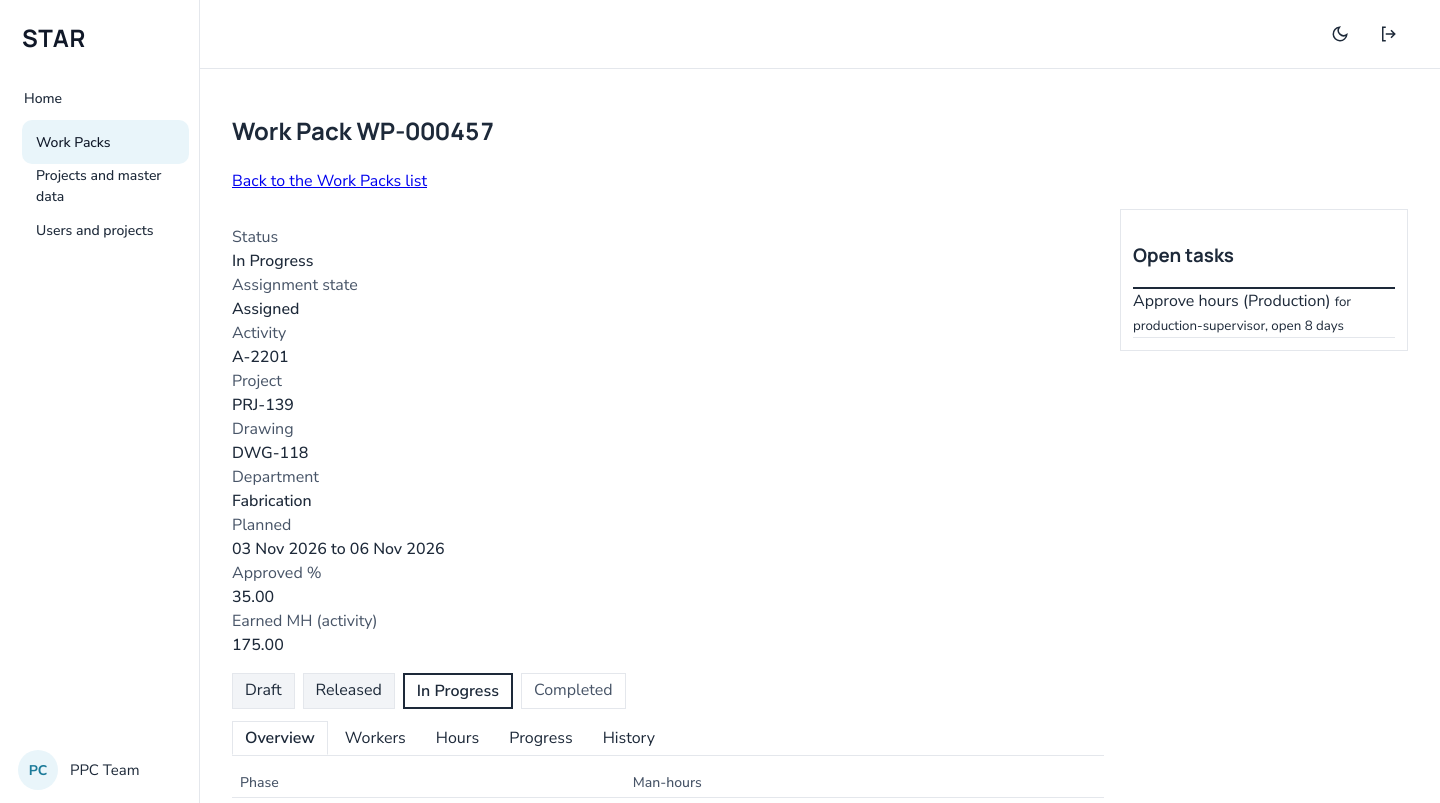
Test: WorkPackDetailPage › theHistoryShowsBusinessDatesInRiyadh
Check: the element showing "Overview Workers Hours Progress History" is shown, box [232,721,1104,756]
Click the tab "History" at (629, 738), box [590,721,668,755]
(page scrolled)
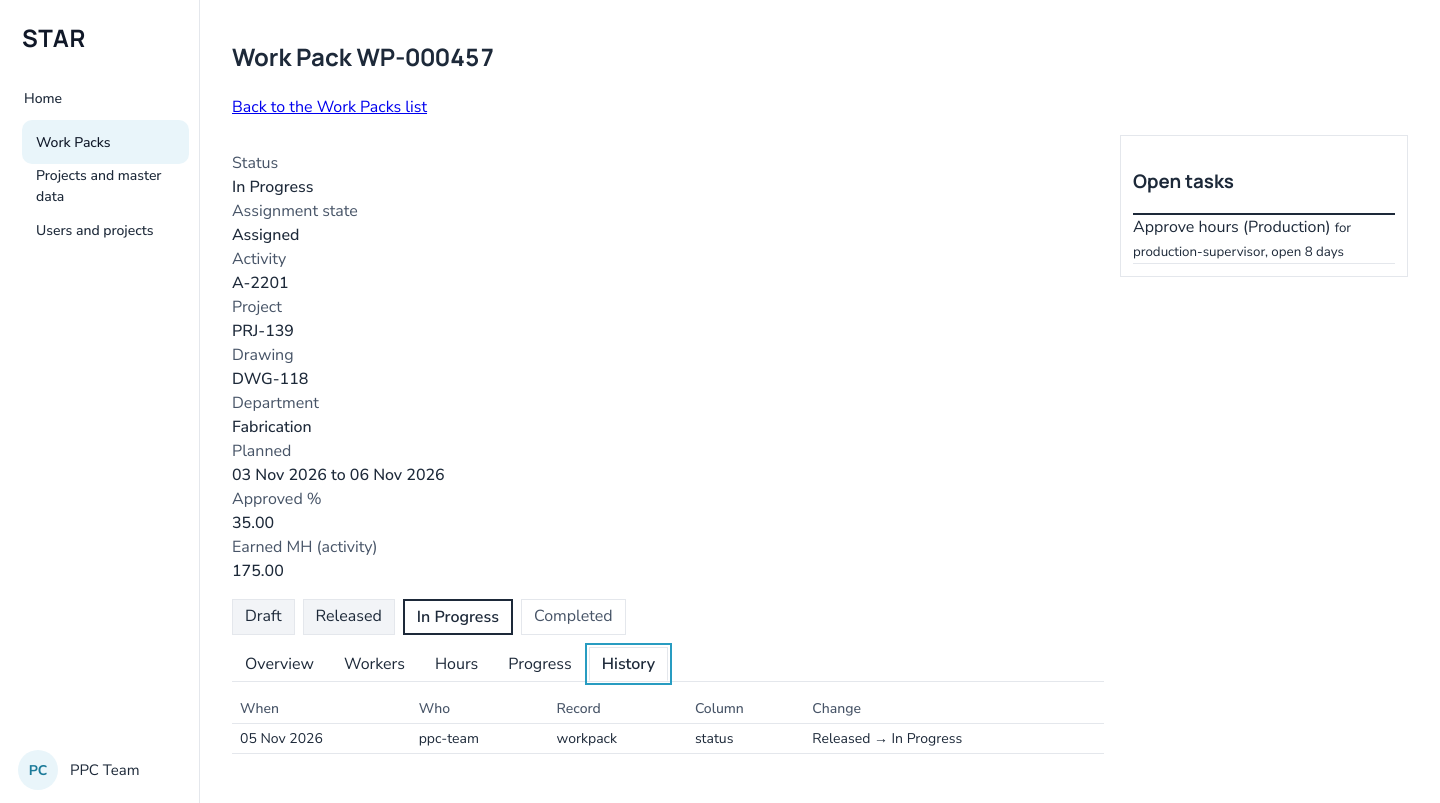
Check: the text "05 Nov 2026" is shown, box [232,723,411,753]
